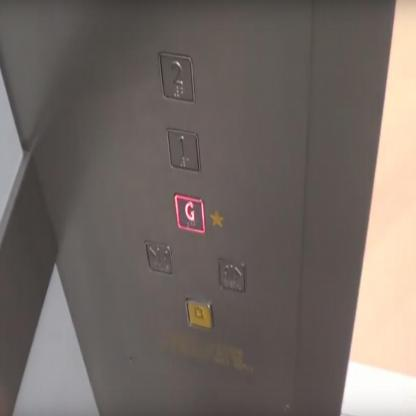1: (164, 123, 201, 179)
2: (156, 47, 197, 110)
G: (173, 192, 208, 240)
alarm: (185, 294, 213, 334)
close: (144, 237, 175, 277)
open: (216, 253, 246, 300)
